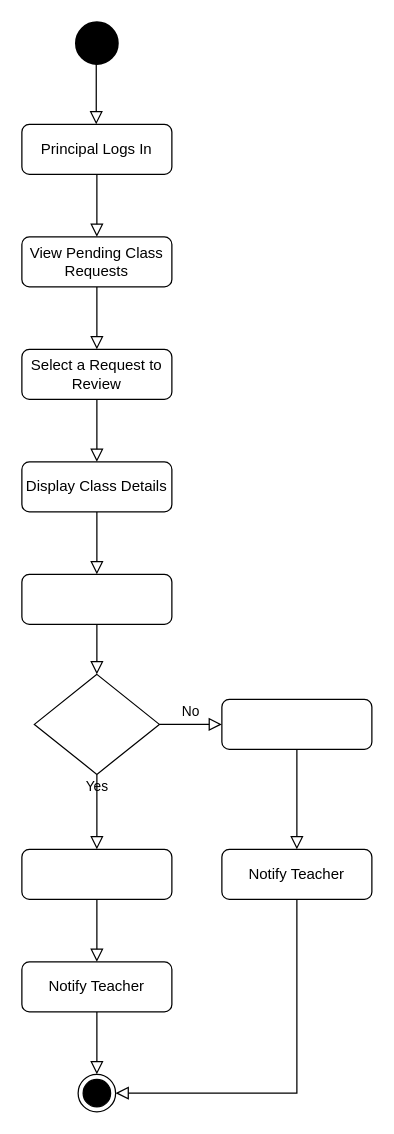
Some shapes in this 394 by 1134 pixel diagram are drawn without their labels. The centre of each missing label's shape, as x and y in pixels:
Activate Class: (96,873)
Class approved?: (96,598)
Enter Rejection Reason: (296,723)
